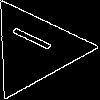I: (9, 24, 63, 58)
